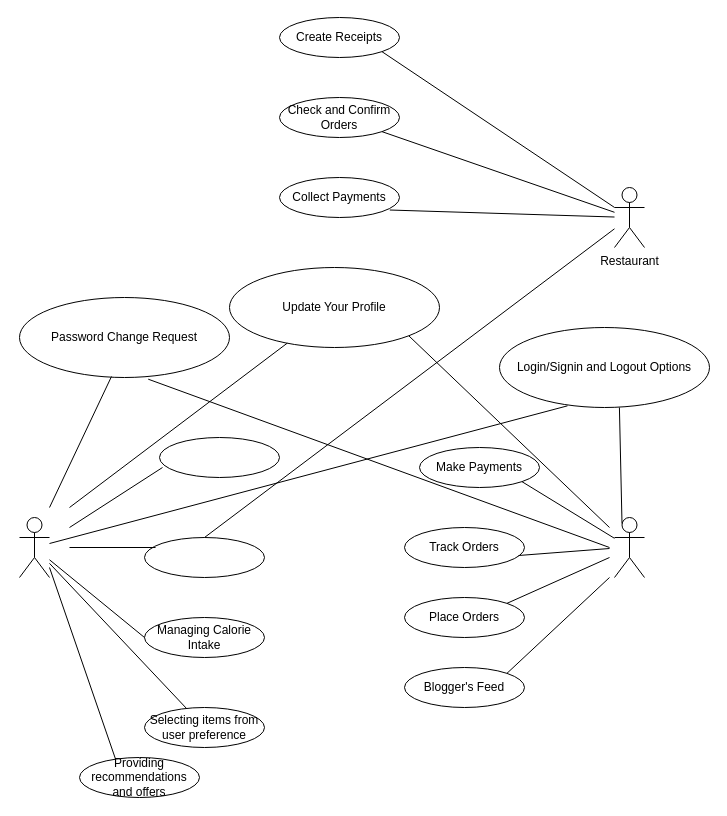
The diagram is 727 pixels wide and 816 high, and some of its shapes have lost their labels. The centre of each missing label's shape, as x and y in pixels:
"Admin" belongs at (x=34, y=547).
"Managing Delivery" belongs at (x=204, y=557).
"Payment" belongs at (x=219, y=457).
"User" belongs at (x=629, y=547).
